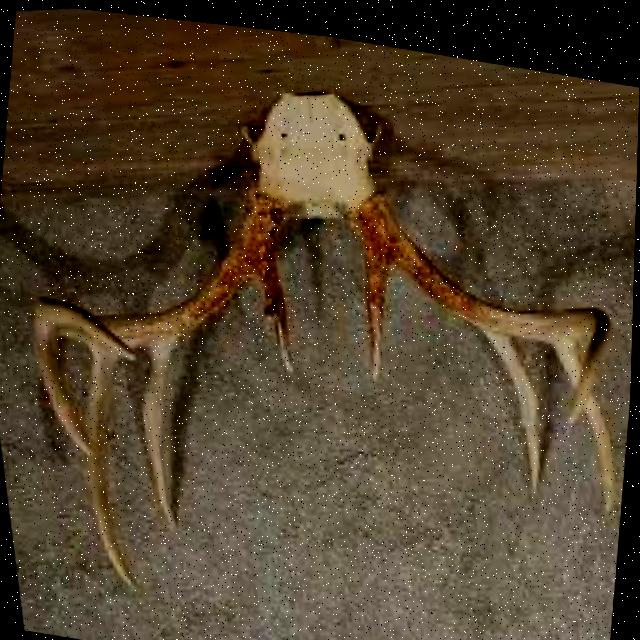E1: (34, 319, 97, 454)
L-F: (355, 186, 612, 413)
L-G1: (363, 232, 395, 372)
L-G2: (485, 321, 543, 478)
R-F: (36, 188, 287, 358)
R-G1: (259, 244, 295, 365)
R-G2: (144, 335, 180, 523)
R-G3: (86, 343, 142, 589)
